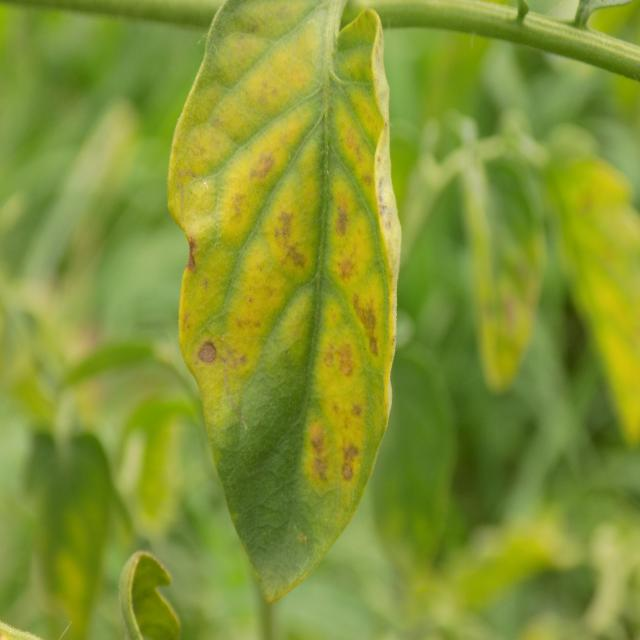tomato_early blight: (164, 0, 403, 600)
